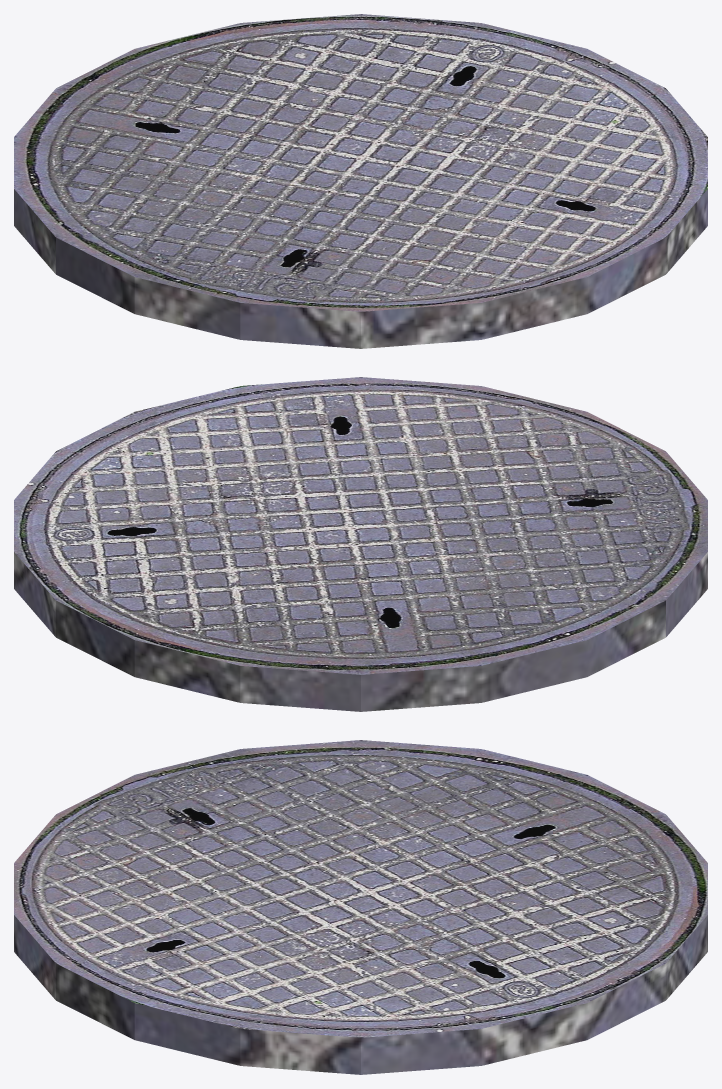
The picture shows the model from 3 angles, top to bottom: view 1: azimuth 30°, elevation 25°; view 2: azimuth 150°, elevation 25°; view 3: azimuth 270°, elevation 25°; orthographic projection.
Parts seen in each view (by area): view 1: 맨홀 뚜껑; view 2: 맨홀 뚜껑; view 3: 맨홀 뚜껑.
Part boxes in pixels (box(x1,y1,x2,y2)): 맨홀 뚜껑: box(14, 14, 707, 348); 맨홀 뚜껑: box(14, 377, 707, 711); 맨홀 뚜껑: box(14, 740, 707, 1074).
Size of the model in its own units: 42.47 by 2.47 by 41.83.
